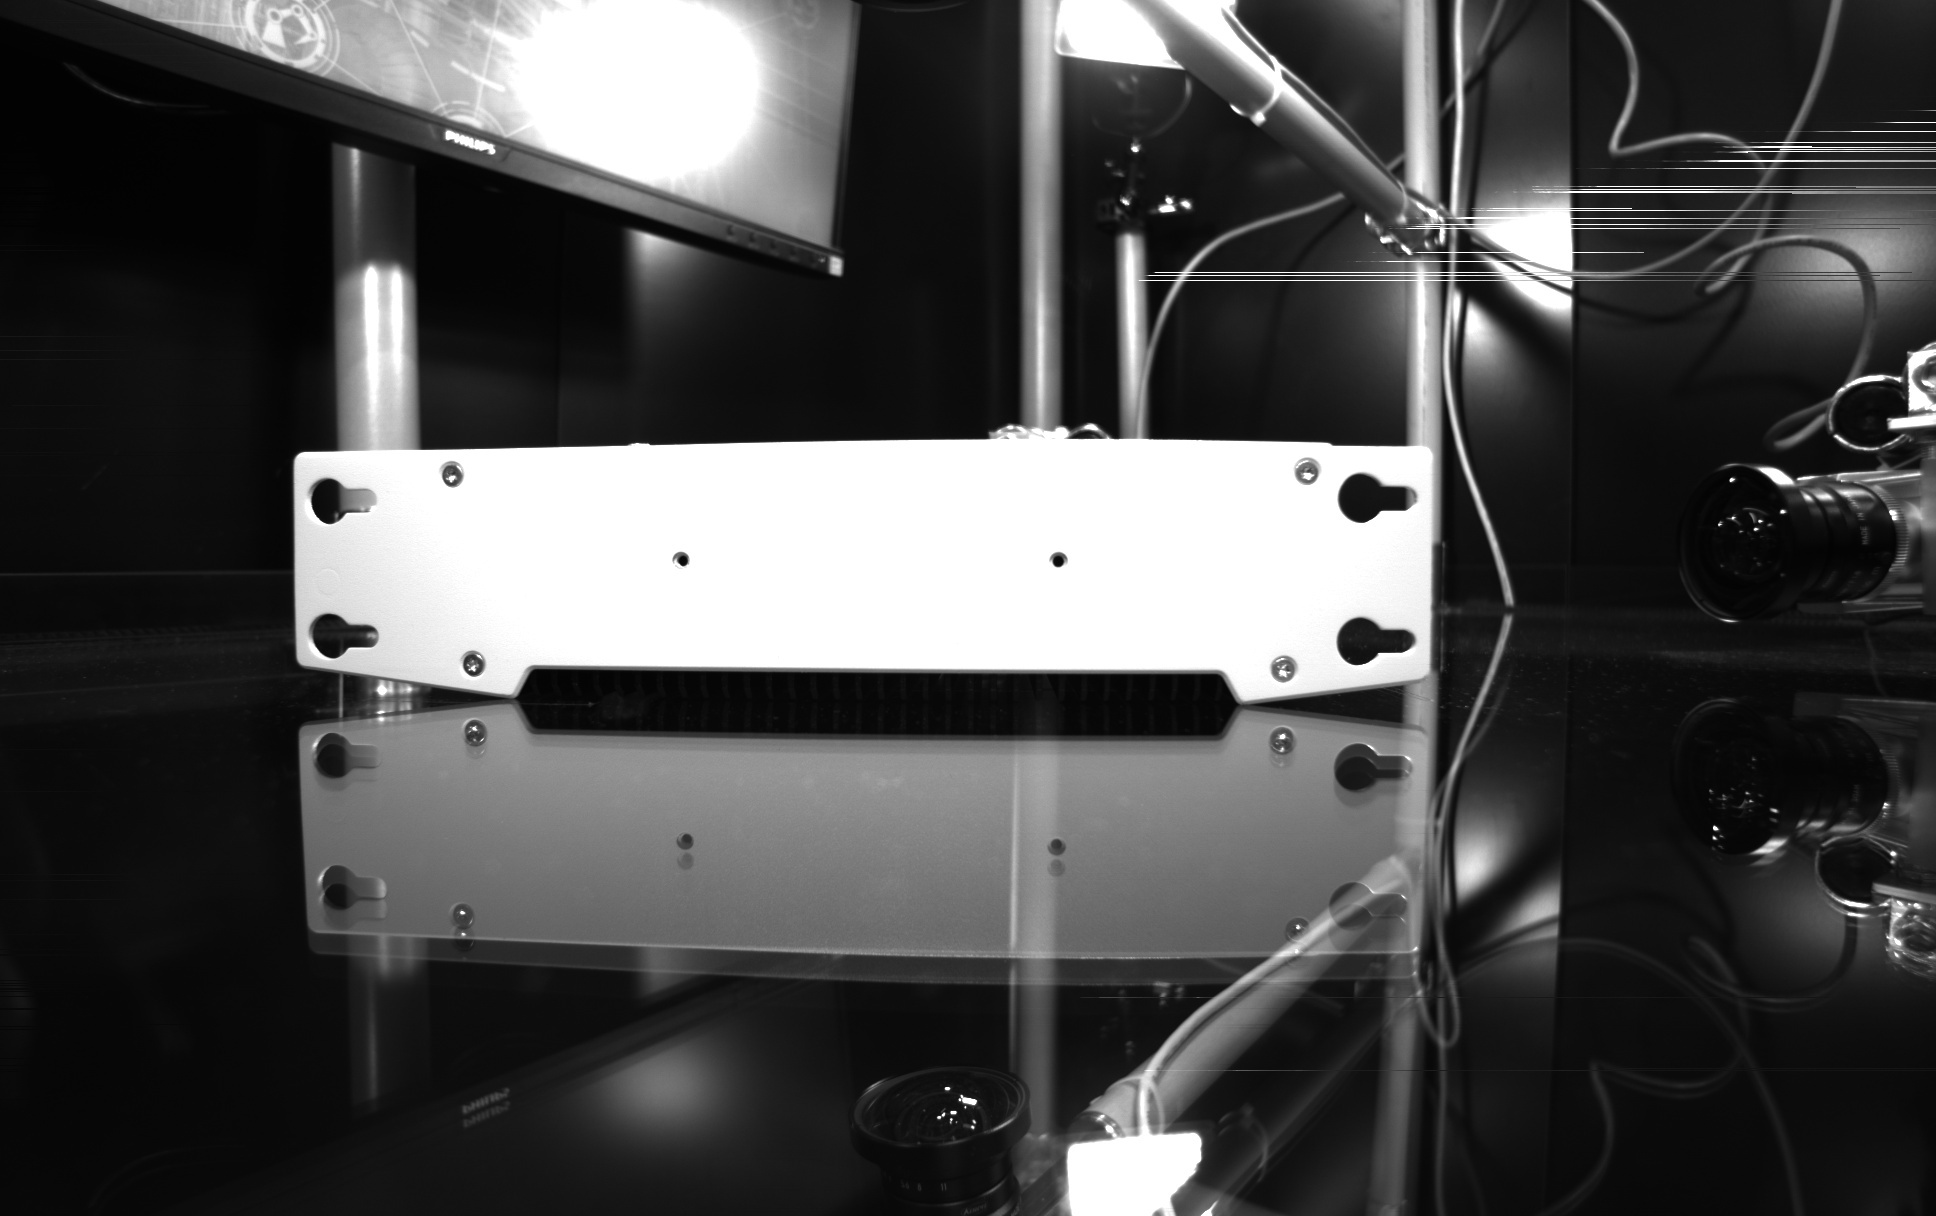CamBack: (261, 410, 1467, 703)
Schraube: (433, 457, 472, 496), (1290, 452, 1329, 492), (457, 643, 495, 684), (1264, 649, 1301, 689)
Schraube_gespiegelt: (1276, 911, 1320, 972), (441, 897, 485, 955), (1261, 721, 1301, 779), (454, 712, 493, 765)
